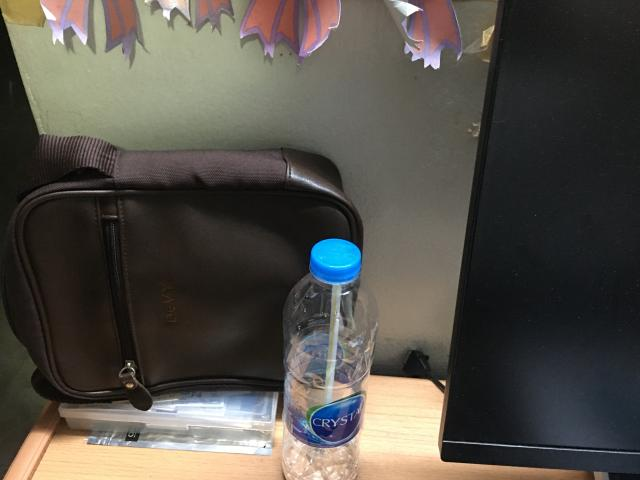bottle: (282, 239, 379, 479)
